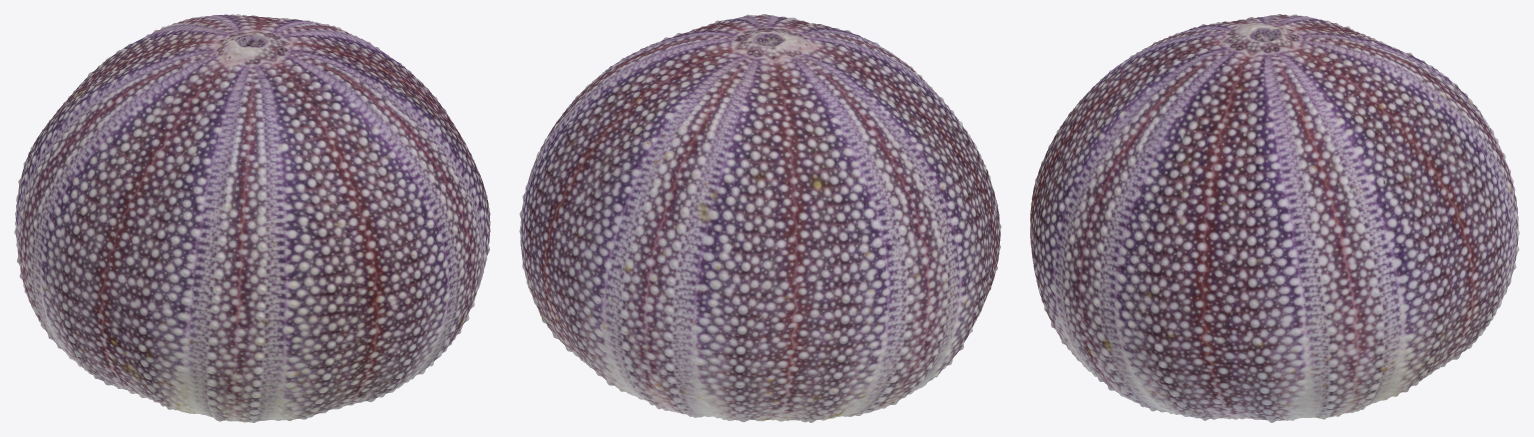
Rendered from piece-002.glb.
3 renders of one model, left to right at view 1: azimuth 30°, elevation 25°; view 2: azimuth 150°, elevation 25°; view 3: azimuth 270°, elevation 25°, orthographic. The views are drawn at different scales.
Parts seen in each view (by area): view 1: Object_2, Object_3, Object_4; view 2: Object_4, Object_3, Object_2; view 3: Object_3, Object_2, Object_4.
Part boxes in pixels (box(x1,y1,x2,y2)): Object_2: box(17, 14, 490, 421); Object_3: box(19, 22, 489, 422); Object_4: box(14, 14, 490, 422); Object_4: box(519, 14, 999, 422); Object_3: box(519, 14, 1001, 422); Object_2: box(520, 28, 1000, 416); Object_3: box(1069, 14, 1519, 422); Object_2: box(1030, 15, 1502, 420); Object_4: box(1109, 15, 1518, 420).
Size of the model in its own units: 1.04 by 0.8053 by 1.04.
Materials: 1 (1 with a texture image).
